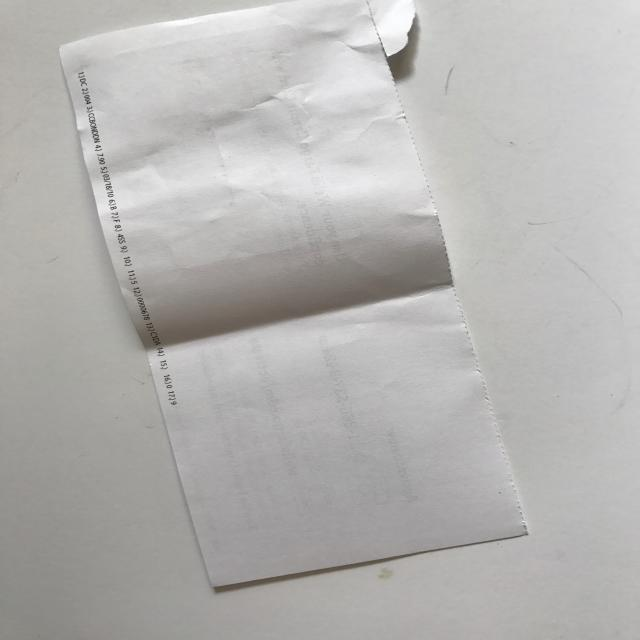paper: (62, 2, 530, 590)
